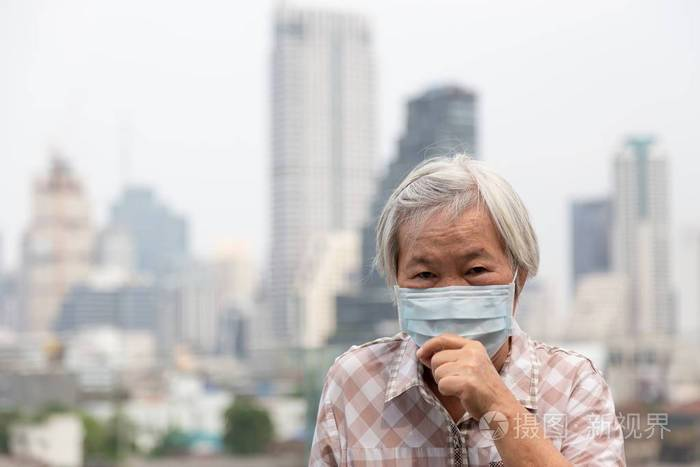mask: (387, 177, 527, 376)
